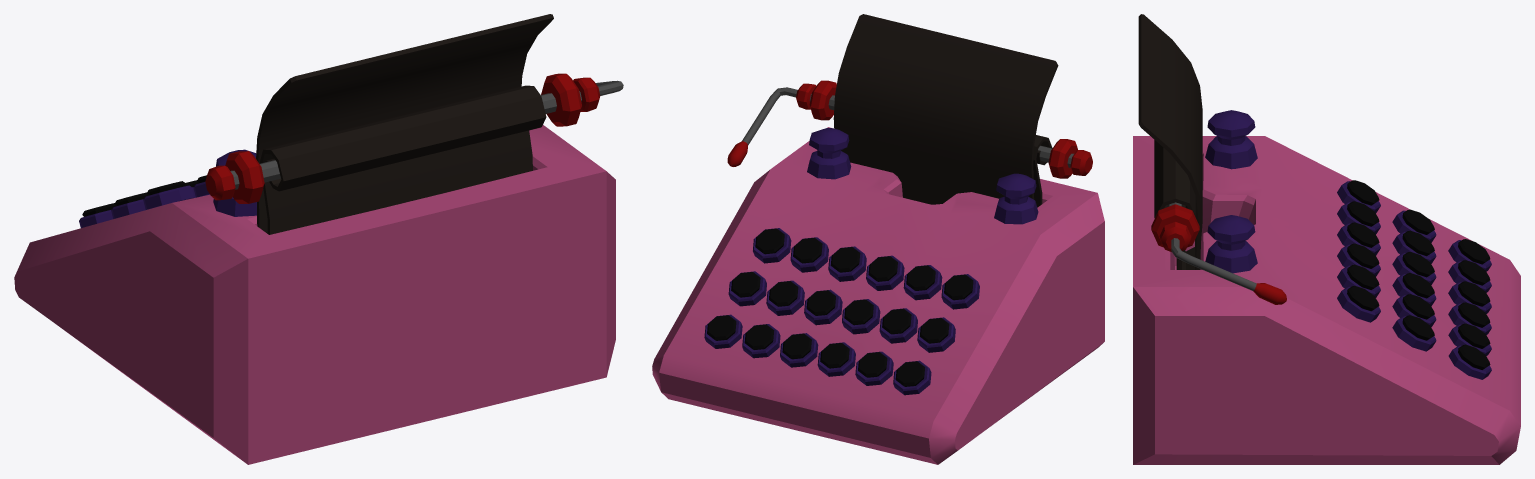
The model's file is Typewriter.FBX.
The picture shows the model from 3 angles, left to right: view 1: azimuth 30°, elevation 25°; view 2: azimuth 150°, elevation 25°; view 3: azimuth 270°, elevation 25°; orthographic projection. The views are drawn at different scales.
Visible parts, largest first — view 1: Typewriter; view 2: Typewriter; view 3: Typewriter.
Boxes of the visible parts, <box> form: Typewriter: <box>14,14,623,464</box>; Typewriter: <box>652,14,1104,464</box>; Typewriter: <box>1133,14,1520,464</box>.
Size of the model in its own units: 1068 by 967 by 885.
